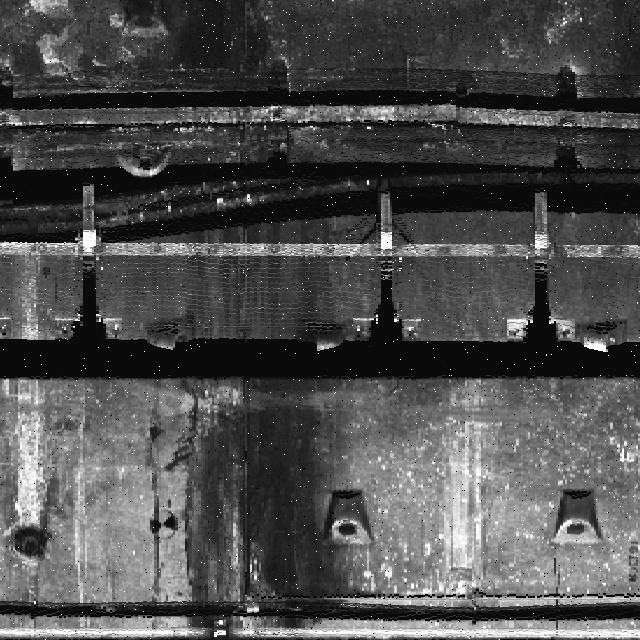leakage: (153, 381, 352, 639), (1, 1, 298, 97), (177, 215, 344, 349)
